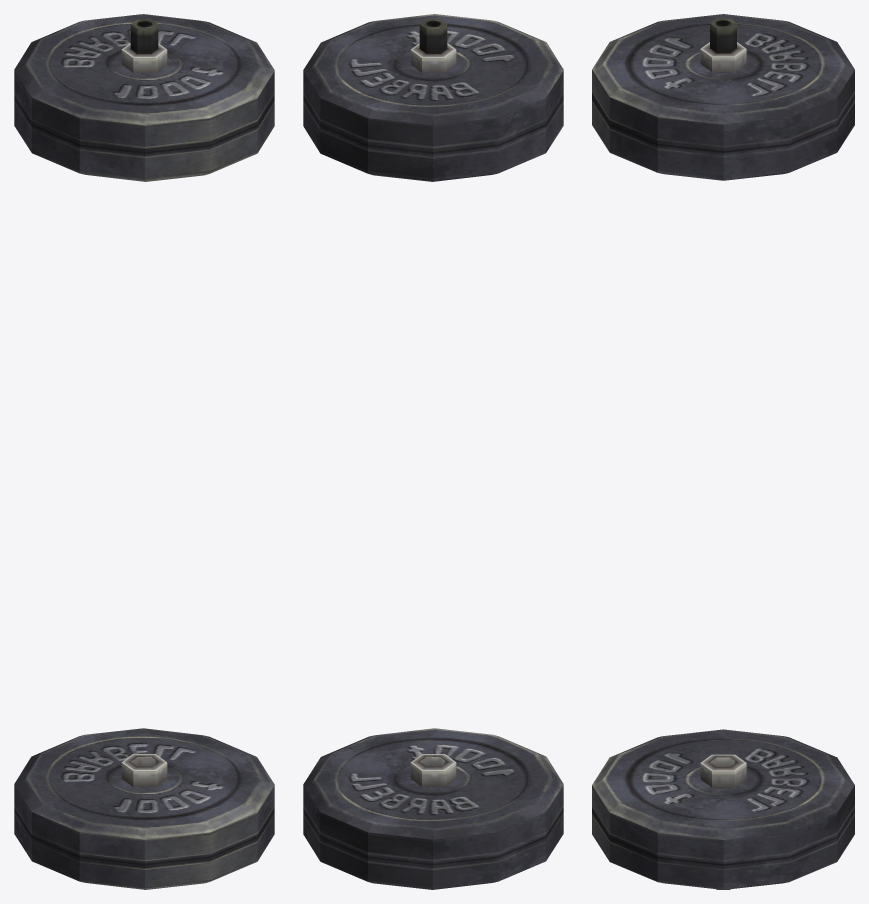
The model's file is Bison_barbell.obj.
The picture shows the model from 3 angles, left to right: view 1: azimuth 30°, elevation 25°; view 2: azimuth 150°, elevation 25°; view 3: azimuth 270°, elevation 25°; orthographic projection.
Visible parts, largest first — view 1: Bison_barbell_tri; view 2: Bison_barbell_tri; view 3: Bison_barbell_tri.
Boxes of the visible parts, box(x1,y1,x2,y2) form: Bison_barbell_tri: box(14, 14, 274, 889); Bison_barbell_tri: box(303, 14, 563, 889); Bison_barbell_tri: box(592, 14, 854, 889).
Bounding box in the file's own units: 1.14 × 4.15 × 1.15.
1 material, 1 textured.
